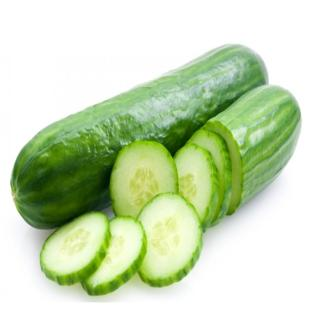Cucumber: (11, 45, 267, 228), (204, 85, 301, 214), (138, 193, 202, 287), (110, 141, 178, 217), (82, 216, 147, 295), (40, 212, 111, 284), (187, 129, 232, 226), (174, 144, 219, 231)
